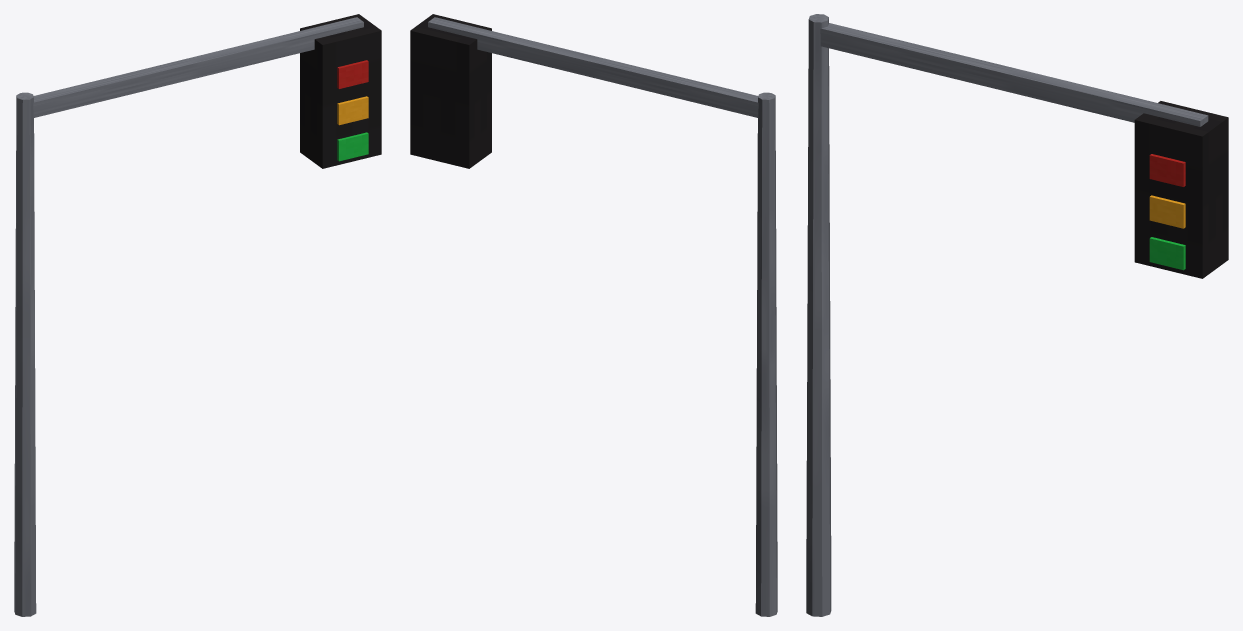
The model's file is trafficlight-cream-far.glb.
The picture shows the model from 3 angles, left to right: view 1: azimuth 30°, elevation 25°; view 2: azimuth 150°, elevation 25°; view 3: azimuth 330°, elevation 25°; orthographic projection. The views are drawn at different scales.
Parts seen in each view (by area): view 1: trafficlight-cream-far, lamp_green, lamp_amber, lamp_red; view 2: trafficlight-cream-far; view 3: trafficlight-cream-far, lamp_amber, lamp_green, lamp_red.
Boxes of the visible parts, left/top/right/bottom form: trafficlight-cream-far: left=14, top=14, right=381, bottom=616; lamp_green: left=337, top=132, right=368, bottom=161; lamp_amber: left=337, top=96, right=368, bottom=125; lamp_red: left=337, top=60, right=368, bottom=88; trafficlight-cream-far: left=410, top=14, right=777, bottom=616; trafficlight-cream-far: left=806, top=14, right=1228, bottom=616; lamp_amber: left=1149, top=195, right=1185, bottom=228; lamp_green: left=1149, top=237, right=1185, bottom=270; lamp_red: left=1149, top=154, right=1185, bottom=186.
Bounding box in the file's own units: 3.6 × 5 × 0.43.
Materials: 1 (1 with a texture image).
